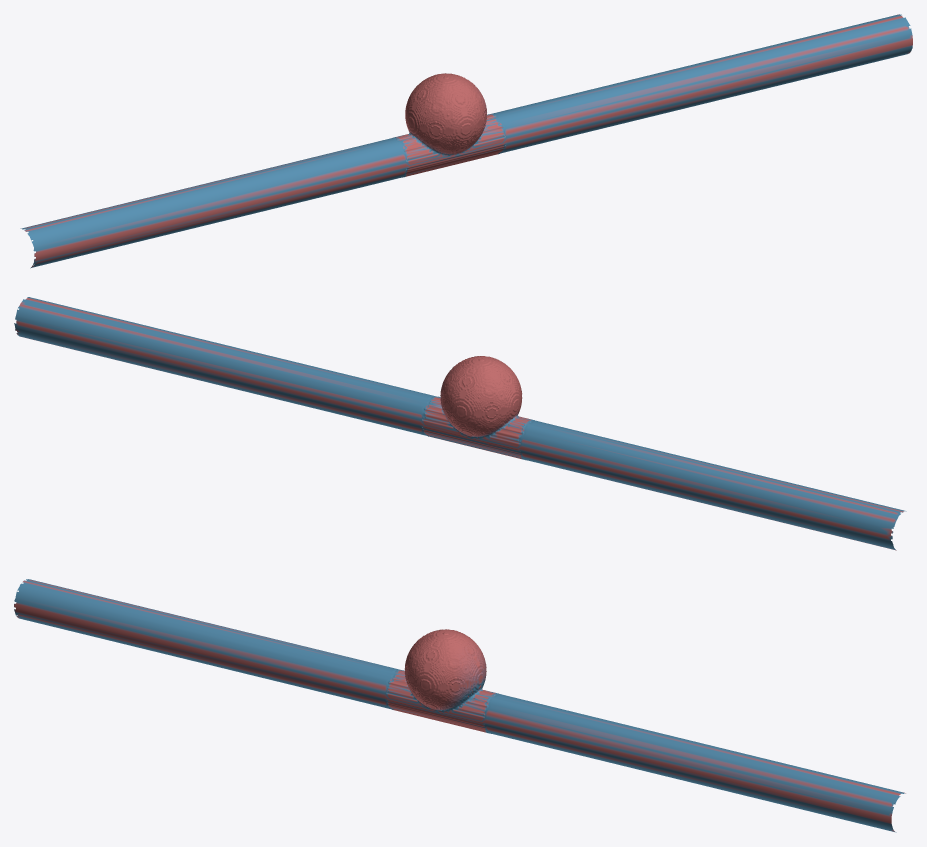
3 renders of one model, top to bottom at view 1: azimuth 30°, elevation 25°; view 2: azimuth 150°, elevation 25°; view 3: azimuth 330°, elevation 25°, orthographic.
Visible parts, largest first — view 1: geometry_0; view 2: geometry_0; view 3: geometry_0.
Boxes of the visible parts, box(x1,y1,x2,y2) form: geometry_0: box(20, 14, 912, 268); geometry_0: box(14, 297, 906, 550); geometry_0: box(14, 579, 905, 832).
Bounding box in the file's own units: 1.92 × 0.1825 × 0.1541.
